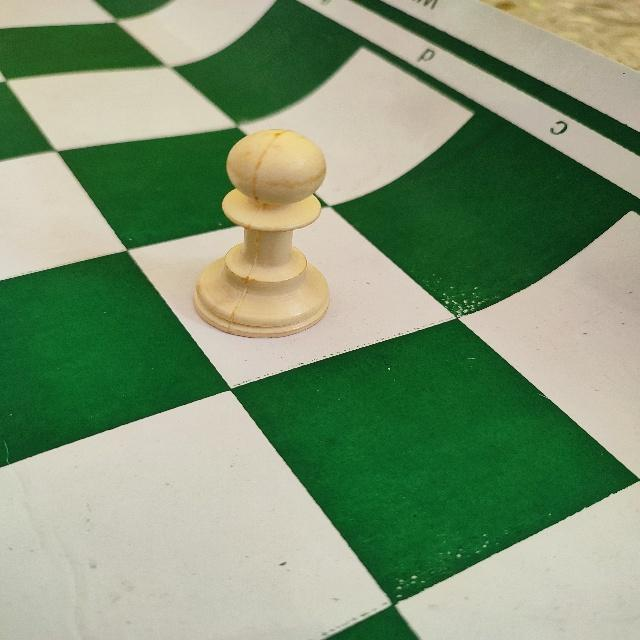Pawn: (190, 124, 334, 342)
